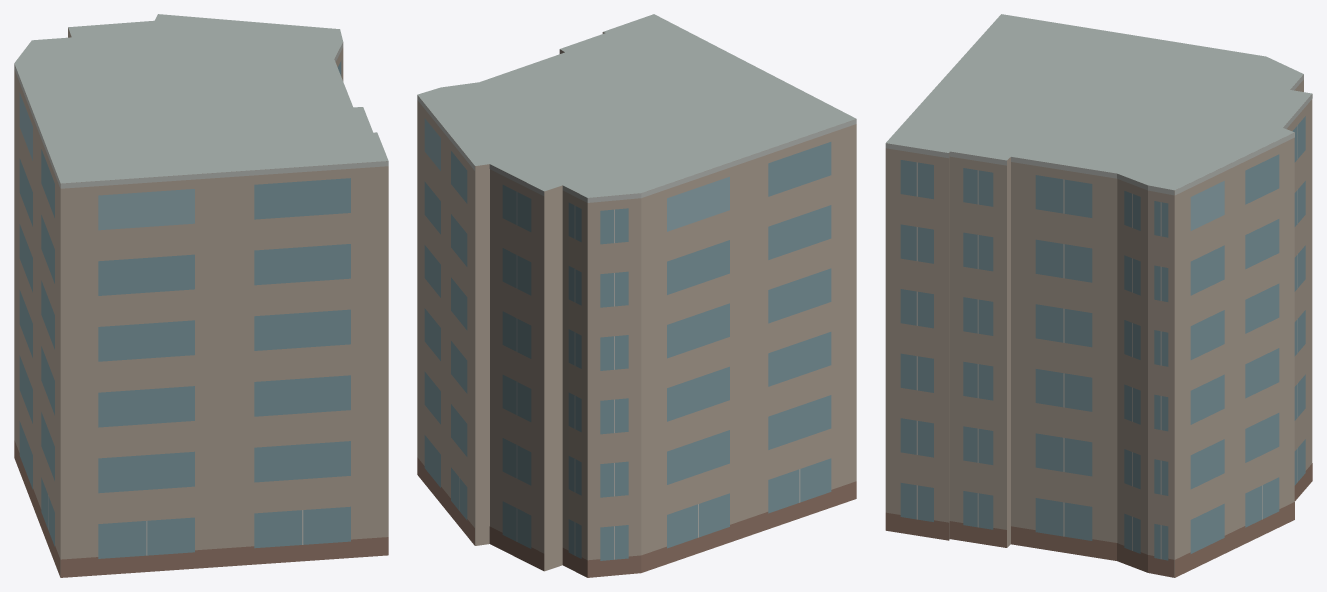
The model's file is survey-upis-33012603.glb.
The picture shows the model from 3 angles, left to right: view 1: azimuth 30°, elevation 25°; view 2: azimuth 150°, elevation 25°; view 3: azimuth 270°, elevation 25°; orthographic projection. The views are drawn at different scales.
Visible parts, largest first — view 1: survey-upis-33012603.tmp; view 2: survey-upis-33012603.tmp; view 3: survey-upis-33012603.tmp.
Boxes of the visible parts, x1,y1,x2,y2 form: survey-upis-33012603.tmp: (14, 14, 388, 577); survey-upis-33012603.tmp: (417, 14, 856, 577); survey-upis-33012603.tmp: (885, 14, 1312, 577).
Size of the model in its own units: 17.87 by 18.3 by 18.28.
